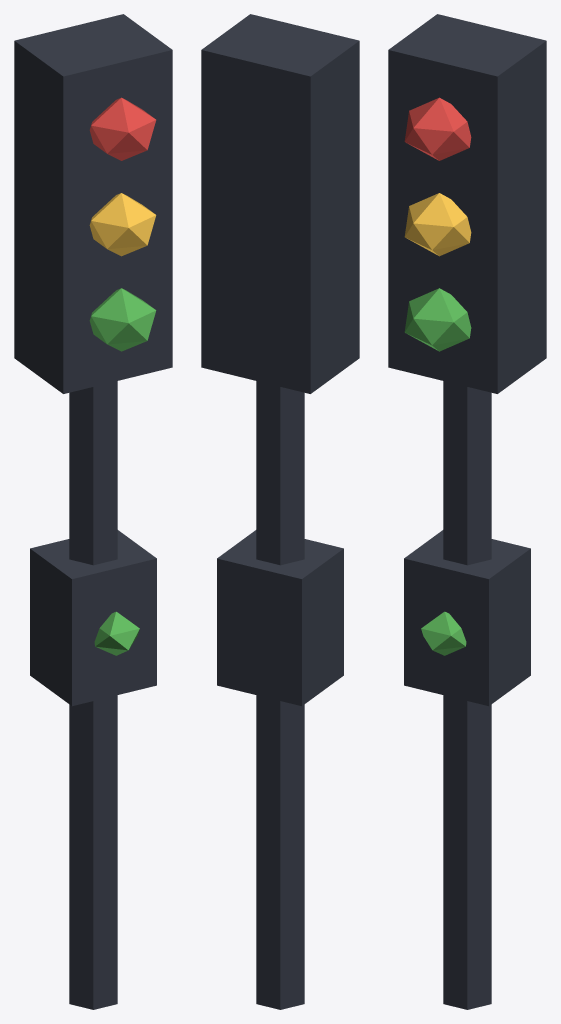
File: prop_traffic_light.glb
3 renders of one model, left to right at view 1: azimuth 30°, elevation 25°; view 2: azimuth 150°, elevation 25°; view 3: azimuth 330°, elevation 25°, orthographic.
Visible parts, largest first — view 1: prop_traffic_light; view 2: prop_traffic_light; view 3: prop_traffic_light.
Boxes of the visible parts, <box> form: prop_traffic_light: <box>14,14,172,1009</box>; prop_traffic_light: <box>201,14,359,1009</box>; prop_traffic_light: <box>388,14,546,1009</box>.
Bounding box in the file's own units: 0.036 × 0.3 × 0.0395.
